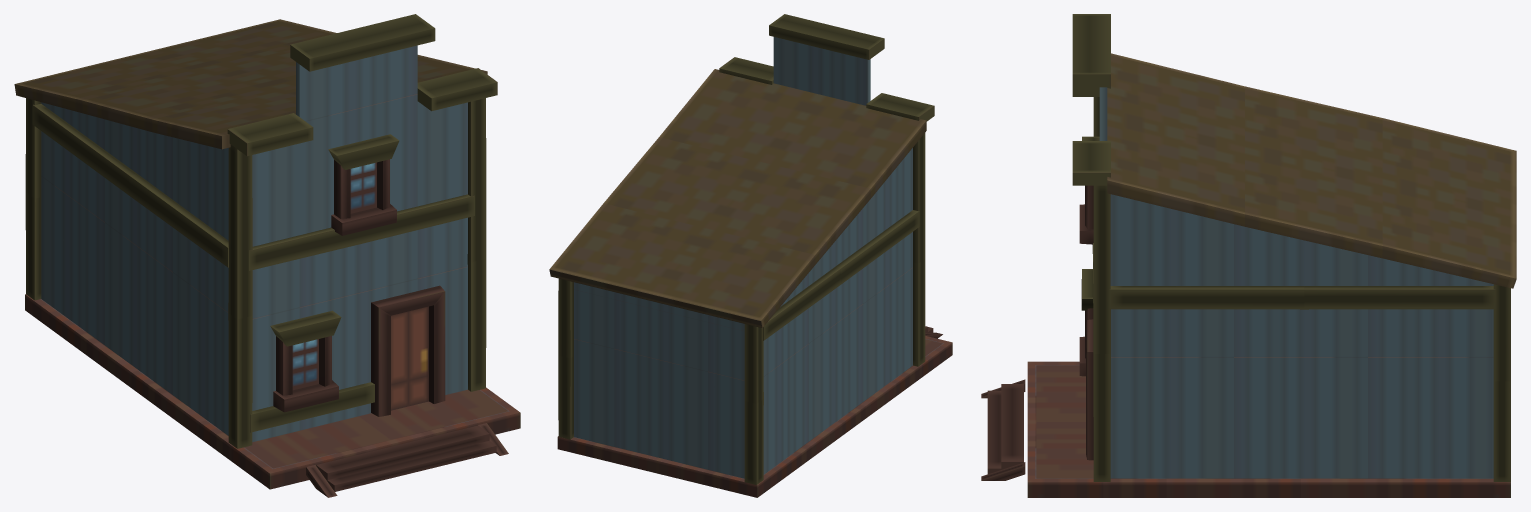
The model's file is house_v4_028.fbx.
The picture shows the model from 3 angles, left to right: view 1: azimuth 30°, elevation 25°; view 2: azimuth 150°, elevation 25°; view 3: azimuth 270°, elevation 25°; orthographic projection. The views are drawn at different scales.
Parts seen in each view (by area): view 1: house_v4_028; view 2: house_v4_028; view 3: house_v4_028.
Part boxes in pixels (x1,y1,x2,y2): house_v4_028: (14,14,520,497); house_v4_028: (549,14,952,497); house_v4_028: (981,14,1516,497).
Size of the model in its own units: 451 by 647 by 798.
